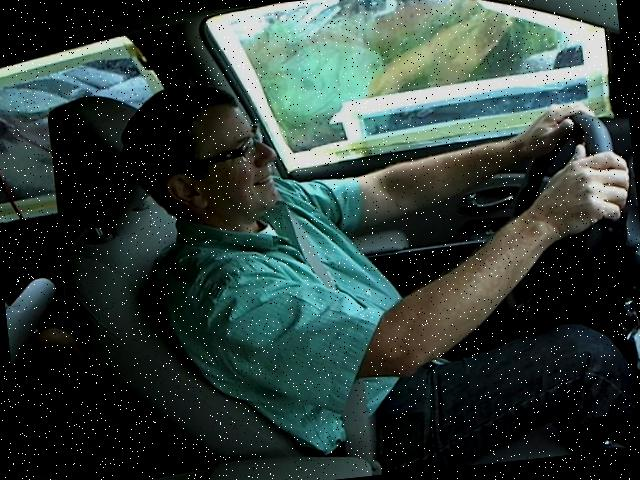c0 - Safe Driving: (103, 38, 639, 424)
